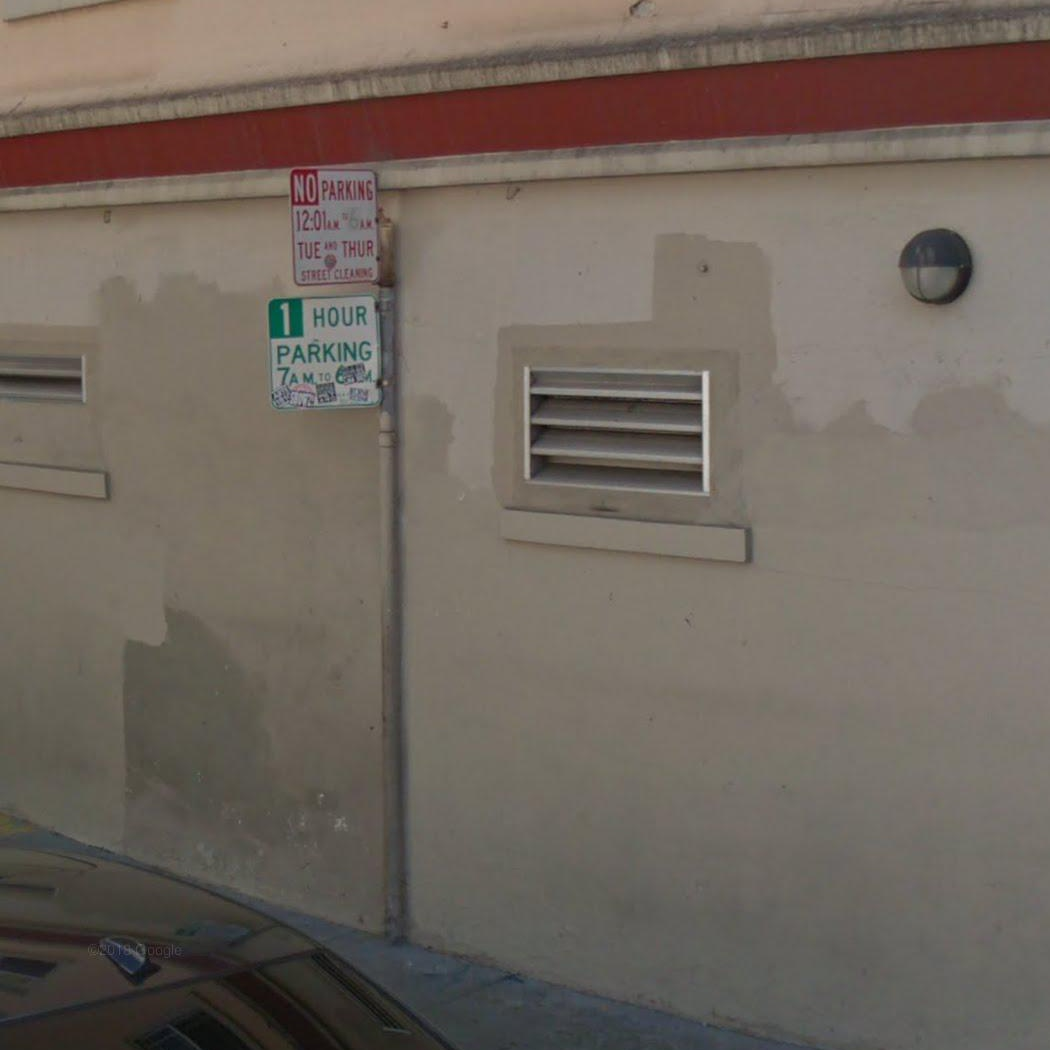1 Hour Parking: (265, 292, 386, 414)
No Parking: (286, 162, 384, 289)
